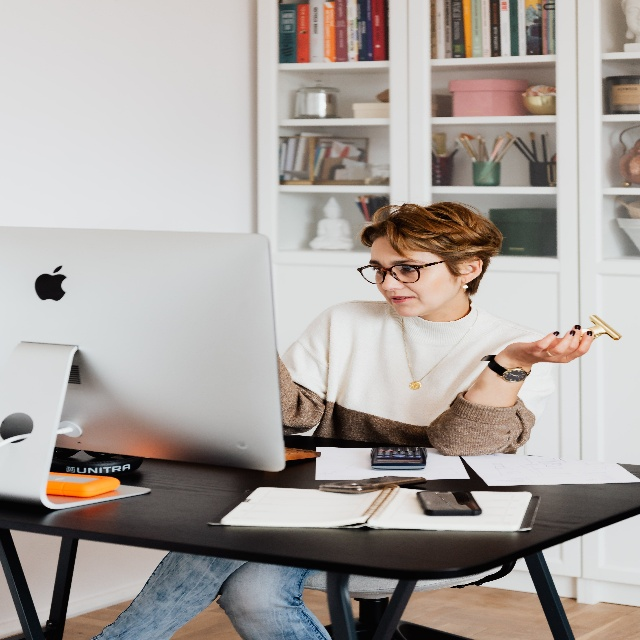Gafas: (357, 260, 448, 284)
Sin_guantes: (504, 324, 593, 363)
